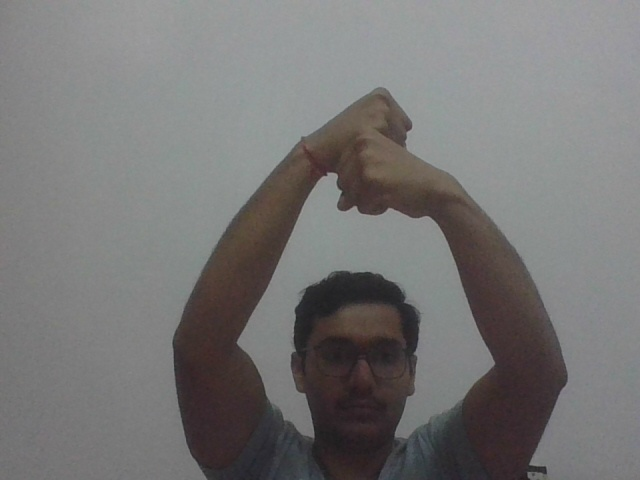G: (329, 85, 422, 224)
